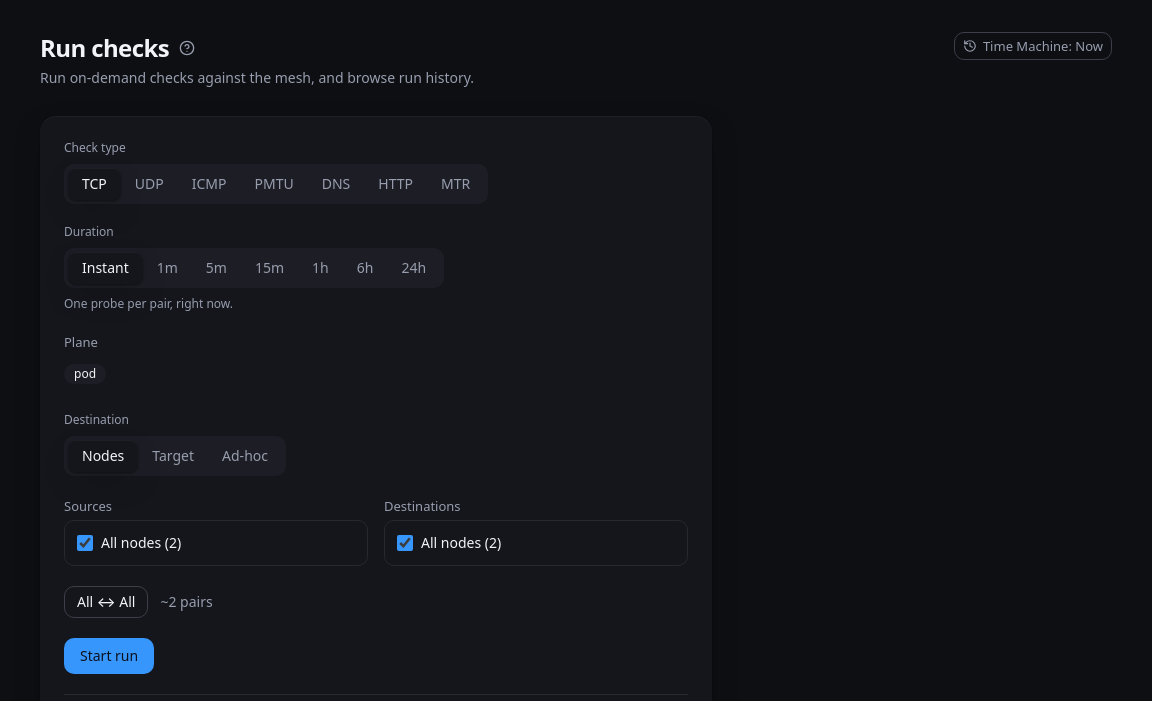
DiagnosticsPage destination kinds › estimates ZERO pairs, and says why, while no target is picked
Click the radio button labelled "Target" at (173, 456), box [138,440,208,472]
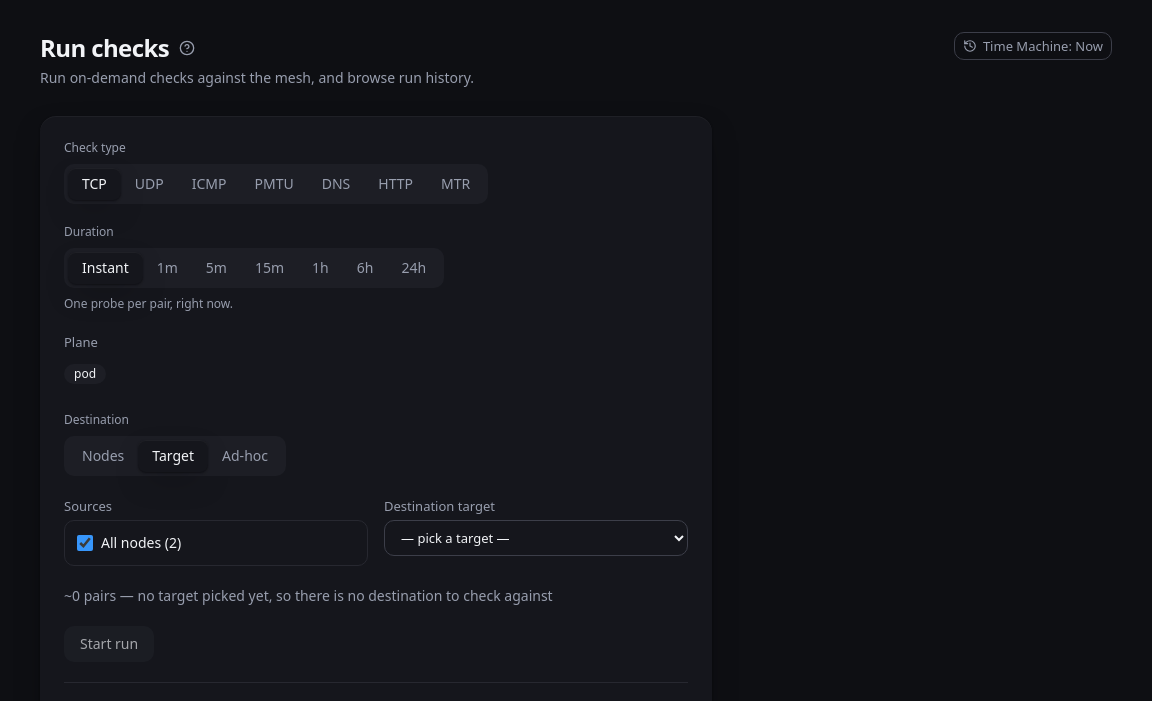
Expected: the text "~0 pairs" is shown, [64,586,116,605]
Expected: the text "no target picked yet" is shown, [116,586,553,605]
Expected: the text "~2 pairs" is gone
